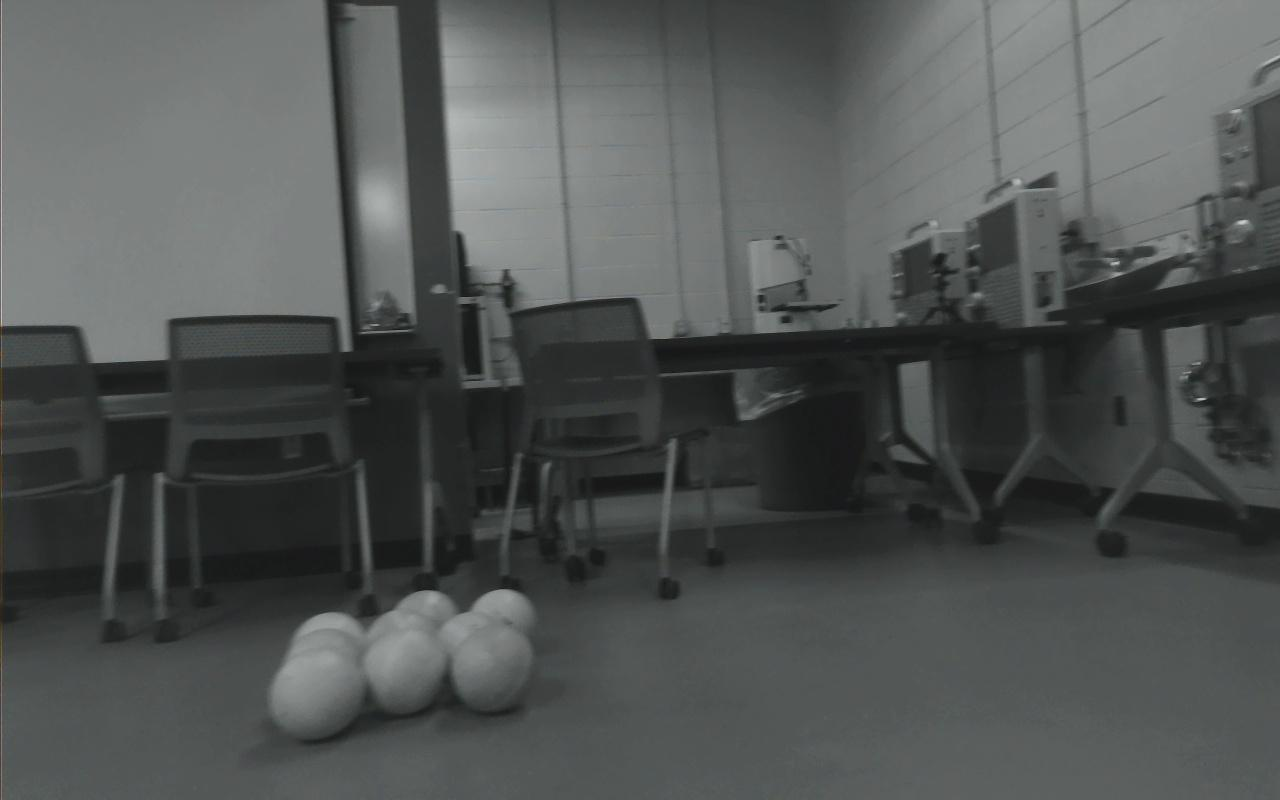Fuel: (268, 645, 366, 741), (447, 623, 534, 714), (361, 625, 447, 716), (282, 628, 366, 710), (435, 609, 509, 691), (364, 609, 442, 684), (291, 612, 369, 684), (468, 589, 539, 658), (393, 589, 461, 654)
